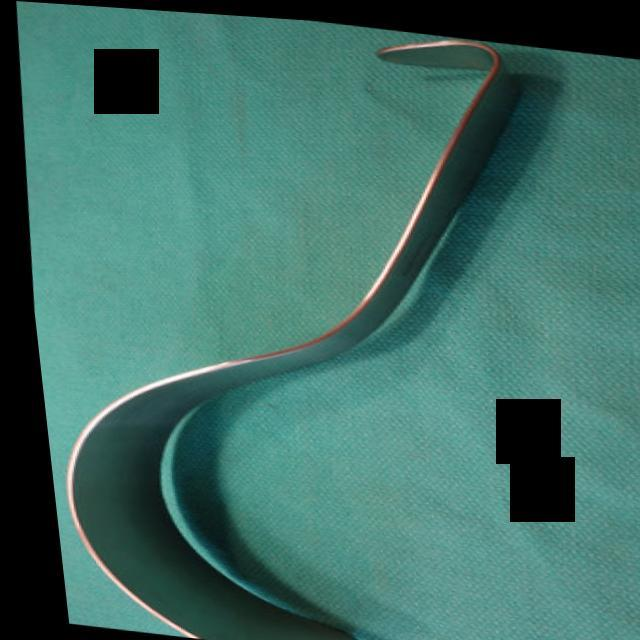Deaver Retractor: (0, 0, 578, 640)
